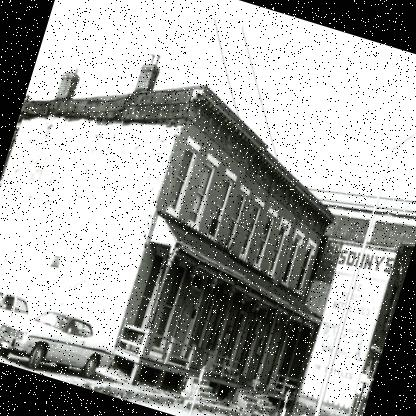Car: (0, 295, 113, 391), (0, 273, 40, 355)
